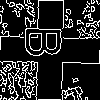B: (25, 25, 71, 59)
